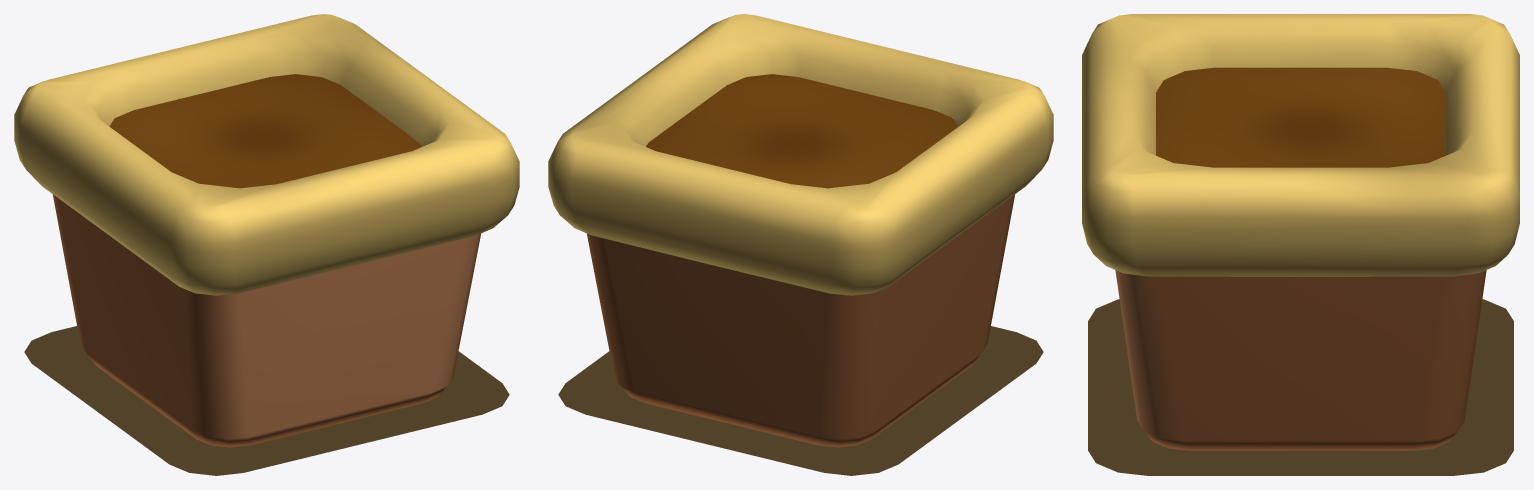
Rendered from vase.fbx.
3 renders of one model, left to right at view 1: azimuth 30°, elevation 25°; view 2: azimuth 150°, elevation 25°; view 3: azimuth 270°, elevation 25°, orthographic. The views are drawn at different scales.
Visible parts, largest first — view 1: PinkFlower01; view 2: PinkFlower01; view 3: PinkFlower01.
Part boxes in pixels (x1,y1,x2,y2): PinkFlower01: (14, 14, 519, 475); PinkFlower01: (548, 14, 1053, 475); PinkFlower01: (1082, 14, 1519, 475).
Size of the model in its own units: 113 by 82.97 by 113.
